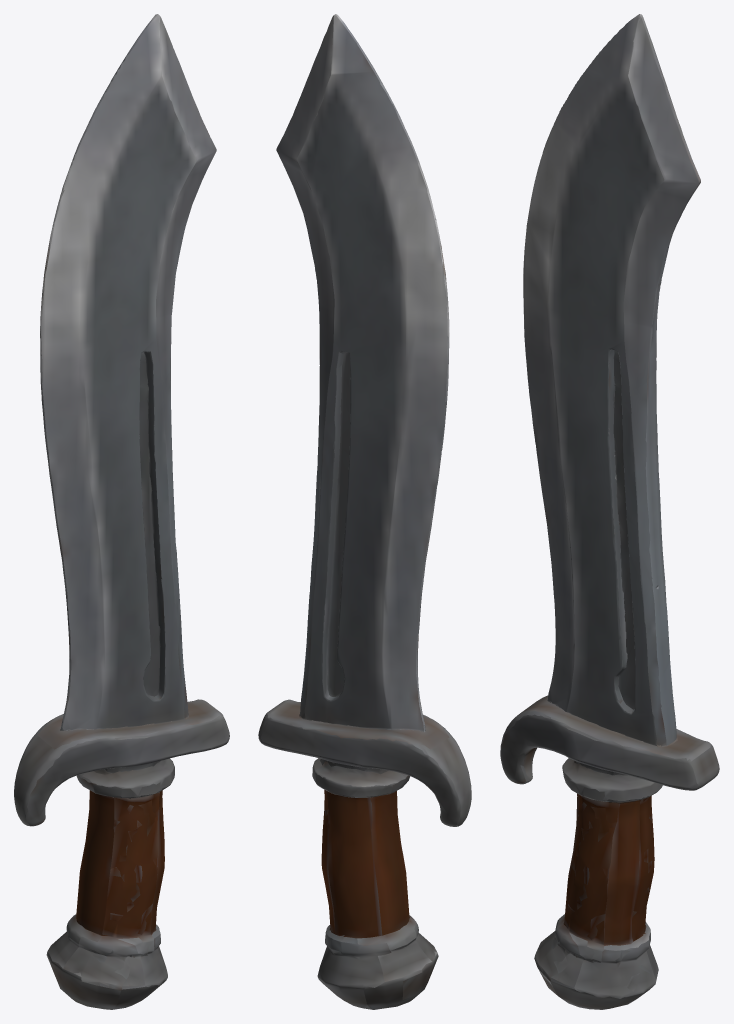
The model's file is alfanje.glb.
3 views of the same model, side by side, from view 1: azimuth 30°, elevation 25°; view 2: azimuth 150°, elevation 25°; view 3: azimuth 330°, elevation 25° (orthographic). The views are drawn at different scales.
Parts seen in each view (by area): view 1: world; view 2: world; view 3: world.
Boxes of the visible parts, x1,y1,x2,y2 form: world: [14, 14, 229, 1009]; world: [258, 14, 471, 1009]; world: [500, 14, 719, 1009].
Bounding box in the file's own units: 0.194 × 0.9 × 0.0999.
1 material, 1 textured.
